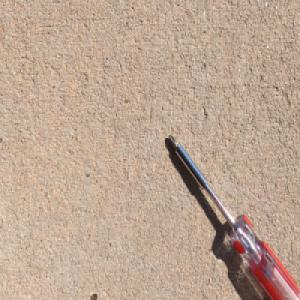Screwdriver: (167, 133, 300, 300)
